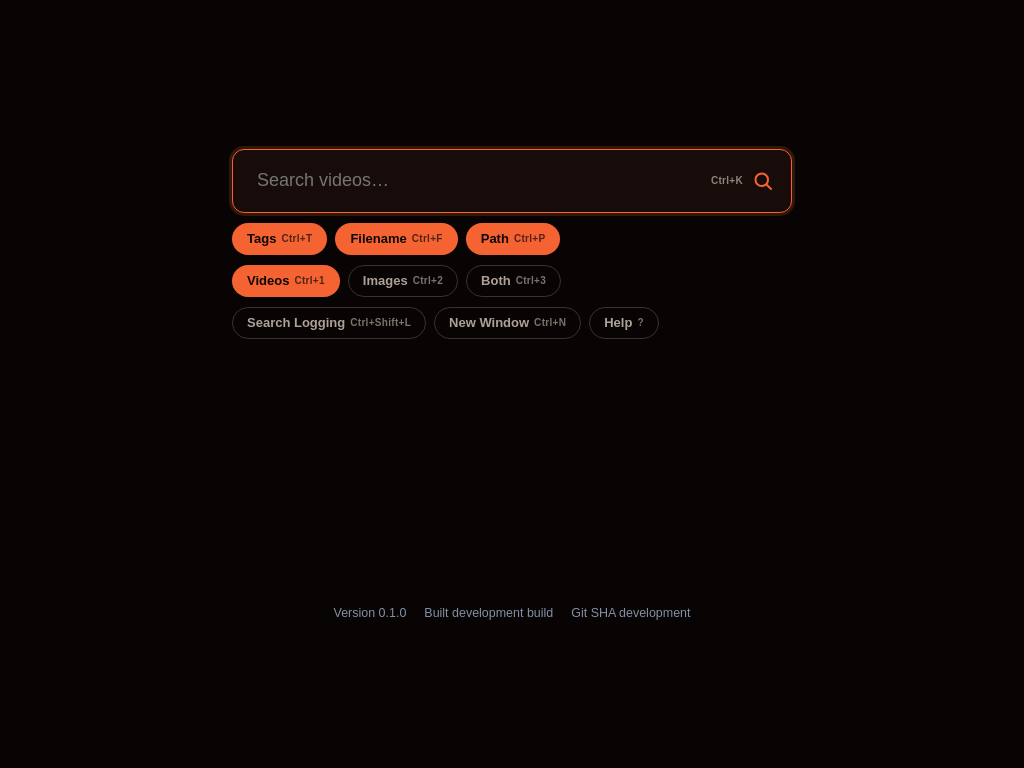
Test case: says how many results could not be tagged
Type "beach" into the search field at (512, 180), box [232, 148, 792, 212]
Then press Enter
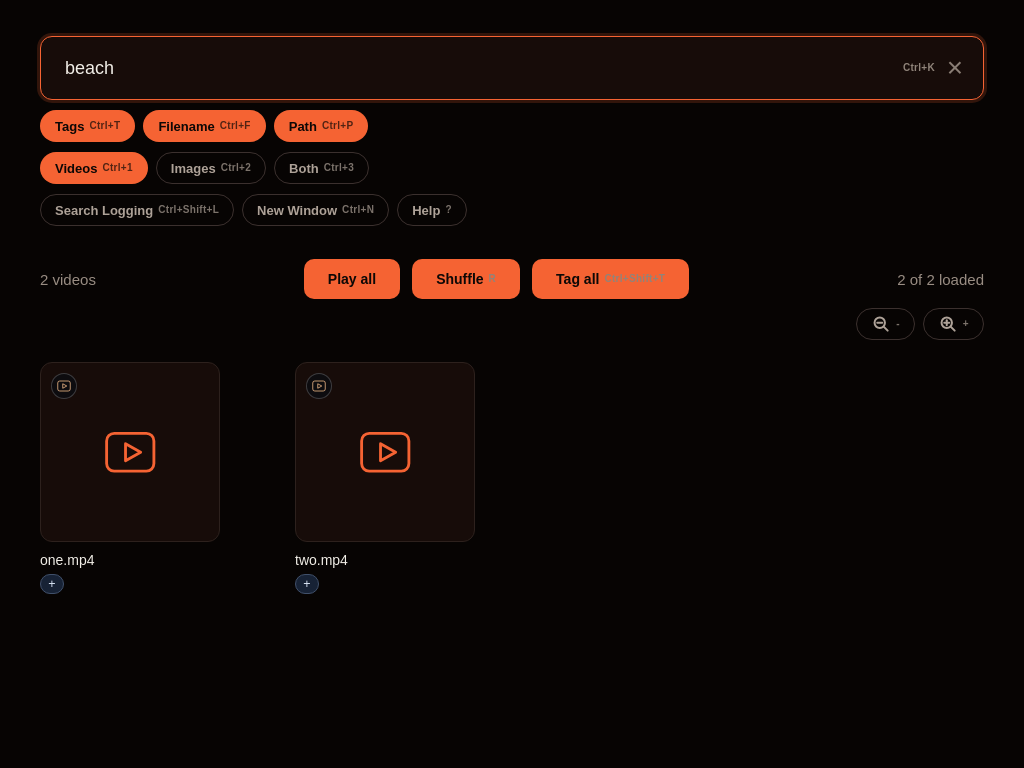
Press T in the search field, box [40, 36, 984, 100]
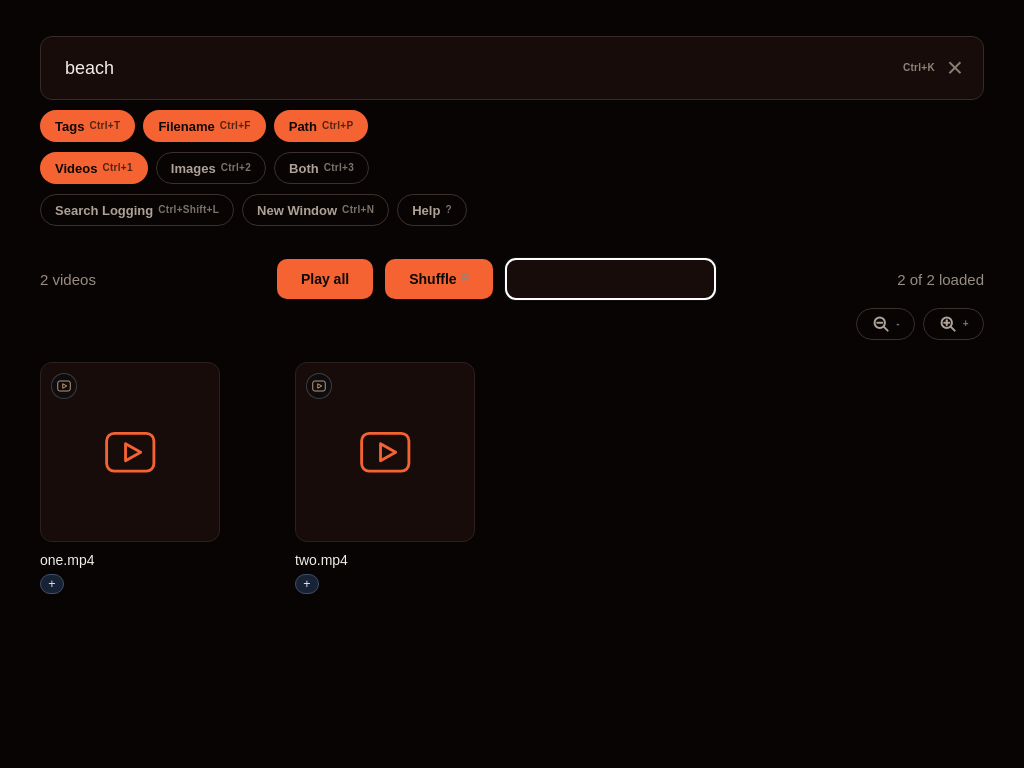
Type "summer" into the field named "Tag all 2 videos" at (611, 279), box [505, 258, 716, 300]
Then press Enter
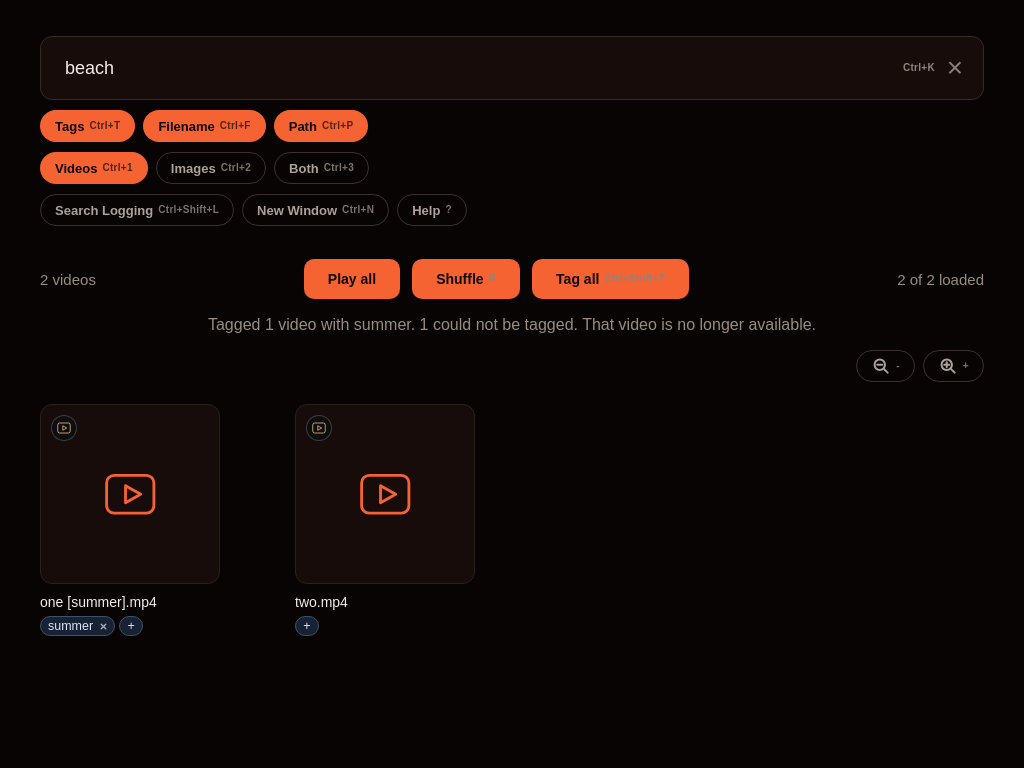
Expected: the message named "Tagging results" shows "1 could not be tagged", [208, 316, 816, 333]
Expected: the message named "Tagging results" shows "That video is no longer available.", [208, 316, 816, 333]
